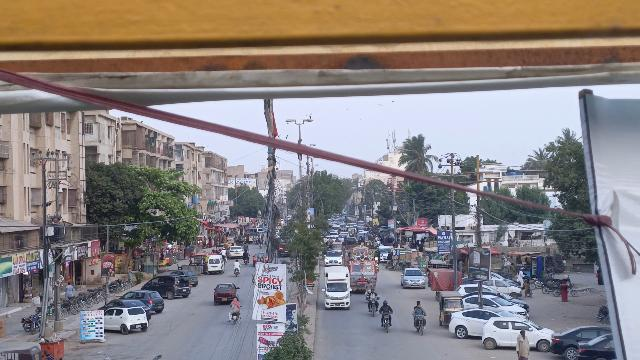Bike: (412, 313, 429, 335), (379, 313, 393, 335), (366, 298, 380, 318), (227, 311, 242, 327)
Bus: (343, 246, 378, 292)
Car: (480, 315, 552, 349), (550, 325, 608, 360), (448, 307, 512, 338), (103, 306, 150, 334), (141, 275, 193, 299), (574, 332, 613, 360), (122, 290, 166, 313), (210, 282, 241, 307), (400, 266, 427, 290), (322, 251, 344, 266)
Person: (515, 327, 531, 360), (228, 296, 242, 312), (379, 299, 393, 314), (412, 300, 427, 314), (65, 279, 74, 298), (365, 289, 380, 300), (364, 278, 374, 291)
Rickshaw: (436, 290, 461, 328)
Truck: (322, 265, 352, 312)
Van: (206, 255, 225, 275)
